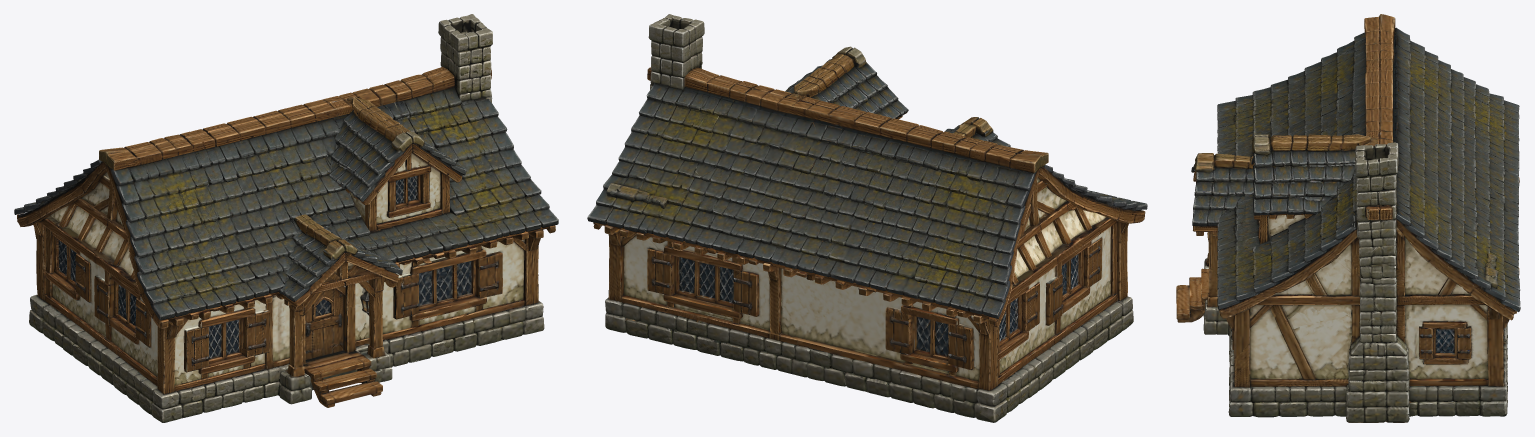
File: cottage-wide.glb
The picture shows the model from 3 angles, left to right: view 1: azimuth 30°, elevation 25°; view 2: azimuth 150°, elevation 25°; view 3: azimuth 270°, elevation 25°; orthographic projection. The views are drawn at different scales.
Bounding box in the file's own units: 1.9 × 1.15 × 1.36.
Materials: 1 (1 with a texture image).
